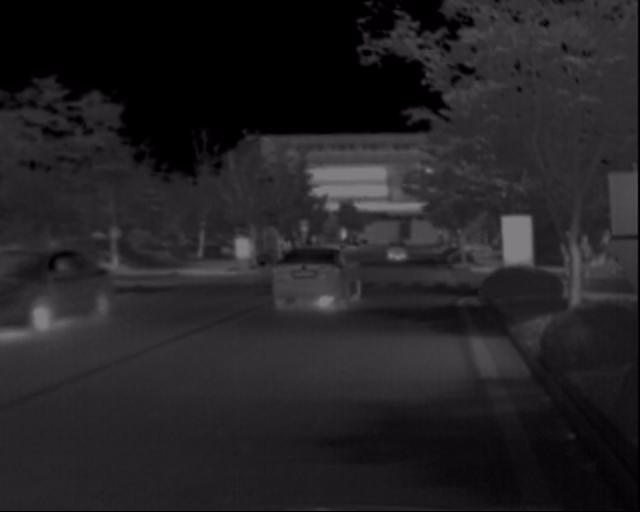person: (573, 228, 598, 292)
